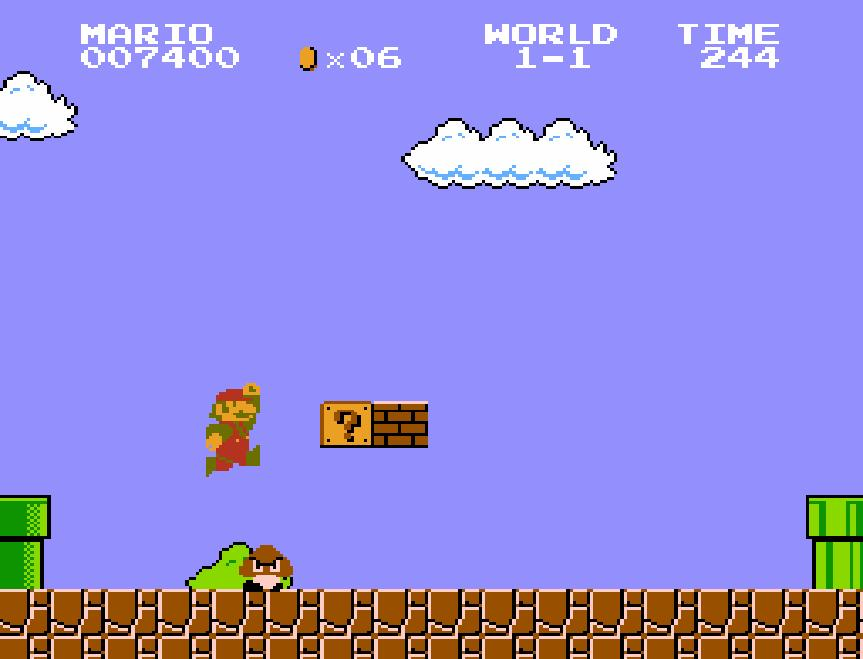big_mario: (203, 381, 261, 479)
